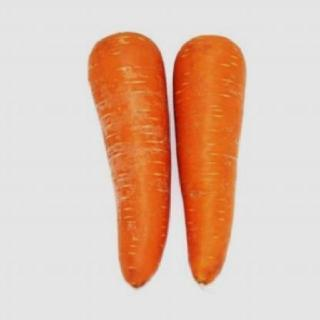carrot: (86, 30, 172, 292), (175, 31, 248, 291)
